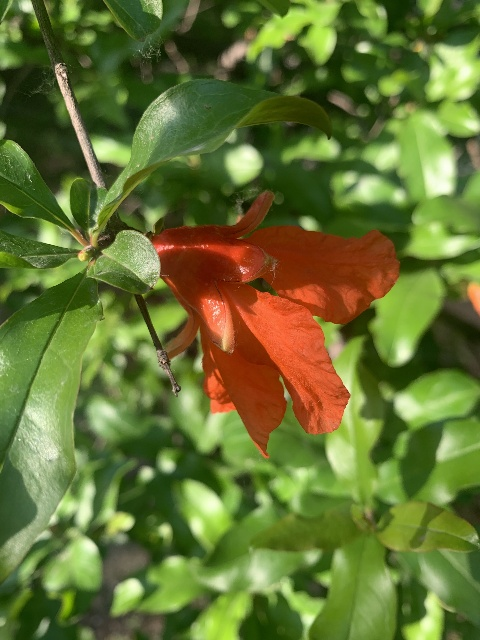flower: (152, 189, 399, 455)
